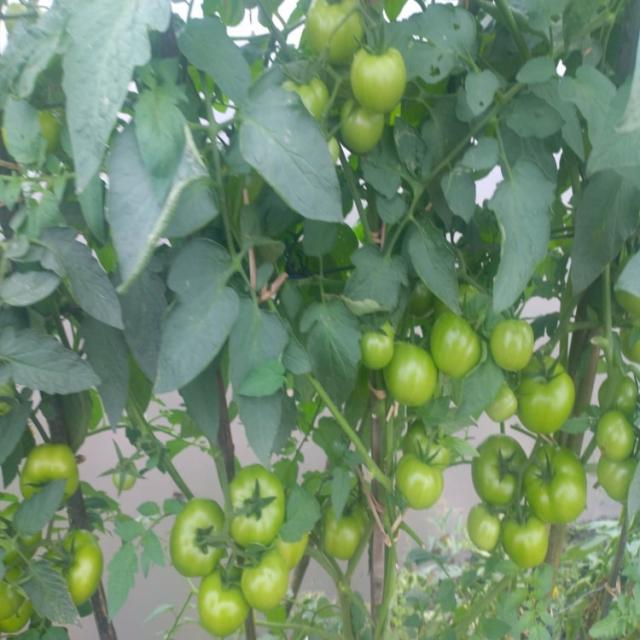tomato: (228, 462, 283, 542), (173, 493, 229, 569), (519, 359, 572, 438), (20, 439, 78, 510), (52, 534, 109, 603), (531, 453, 585, 525), (310, 1, 367, 67), (474, 436, 525, 509), (351, 46, 408, 111), (320, 498, 376, 564), (385, 334, 434, 409), (429, 312, 476, 384), (243, 537, 289, 608), (506, 509, 555, 567), (199, 578, 248, 636), (1, 554, 37, 632), (404, 456, 446, 515), (337, 105, 386, 153), (409, 419, 452, 471), (468, 504, 508, 552), (596, 453, 640, 495), (283, 77, 328, 118), (596, 411, 633, 460), (602, 372, 640, 416), (498, 321, 530, 373), (105, 446, 138, 492), (364, 329, 393, 372), (491, 385, 520, 426), (280, 528, 313, 562), (38, 110, 60, 153)
